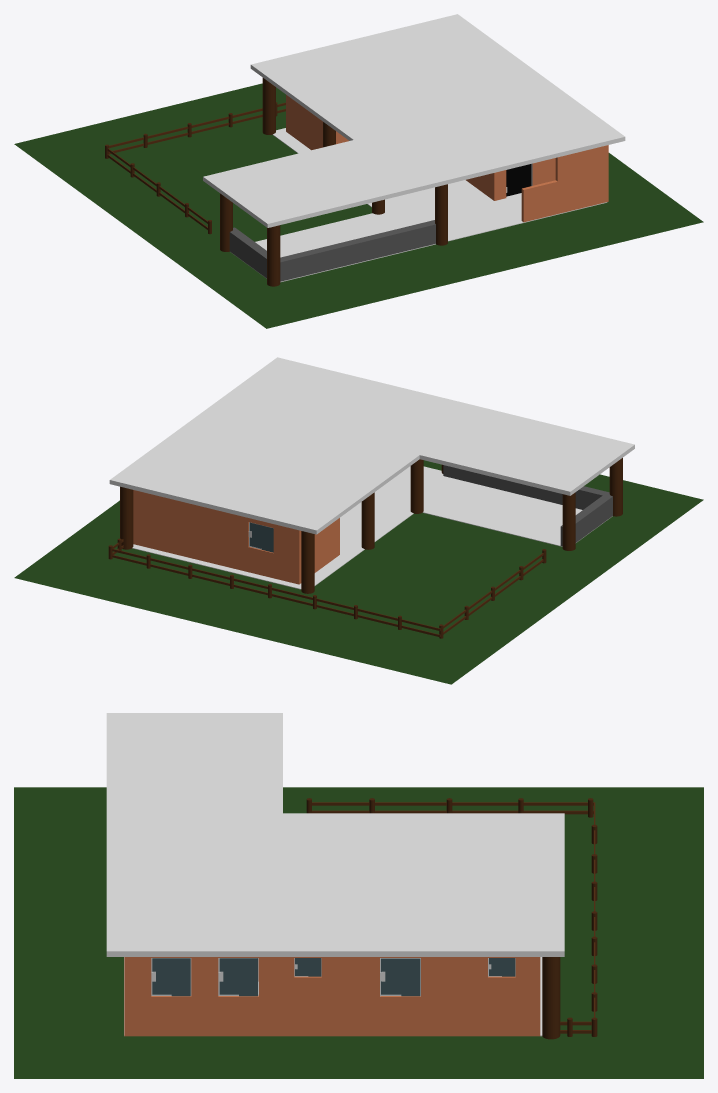
File: casa.fbx
3 renders of one model, top to bottom at view 1: azimuth 30°, elevation 25°; view 2: azimuth 150°, elevation 25°; view 3: azimuth 270°, elevation 25°, orthographic. The views are drawn at different scales.
Parts seen in each view (by area): view 1: Plane, Cube.106, Cube, Cube.000, Cube.001, Cube.003, Cube.011, Cylinder.015, Cylinder.018, Cylinder.019, Cube.087, Cylinder.016 (+4 smaller); view 2: Plane, Cube.106, Cube, Cube.002, Cube.001, Cube.003, Cube.011, Cube.020, Cube.007, Cylinder.019, Cylinder.021, Cylinder.016 (+3 smaller); view 3: Plane, Cube.106, Cube.004, Cylinder.021, Cube.006, Cube.017, Cube.050, Cube.034, Cube.035, Cube.042, Cube.051, Cube.043.
Boxes of the visible parts, x1,y1,x2,y2 form: Plane: (14,83,703,328); Cube.106: (203,14,625,227); Cube: (230,128,607,282); Cube.000: (521,145,608,222); Cube.001: (280,220,435,281); Cube.003: (286,95,322,150); Cube.011: (229,227,266,278); Cylinder.015: (267,225,280,286); Cylinder.018: (435,184,447,245); Cylinder.019: (262,78,275,134); Cube.087: (506,164,531,196); Cylinder.016: (220,193,232,251); Plane: (14,460,703,684); Cube.106: (109,357,634,534); Cube: (132,466,612,589); Cube.002: (133,490,297,583); Cube.001: (443,465,612,516); Cube.003: (297,518,338,584); Cube.011: (560,495,612,546); Cube.020: (112,549,440,630); Cube.007: (112,555,440,637); Cylinder.019: (301,531,314,593); Cylinder.021: (120,486,133,549); Cylinder.016: (562,492,575,550); Plane: (14,787,703,1078); Cube.106: (106,713,564,956); Cube.004: (129,957,534,1036); Cylinder.021: (542,957,560,1039); Cube.006: (312,810,593,814); Cube.017: (312,802,594,805); Cube.050: (171,958,190,996); Cube.034: (401,958,420,996); Cube.035: (381,958,401,994); Cube.042: (239,958,257,996); Cube.051: (152,958,171,994); Cube.043: (219,958,238,994).
Size of the model in its own units: 5119 by 800 by 5119.
